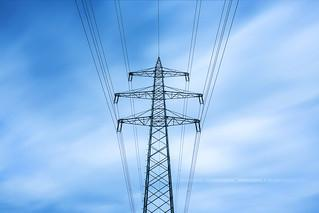power_tower: (107, 52, 208, 213)
